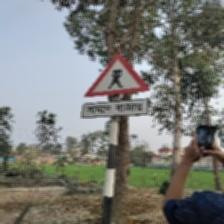Market-in-front: (79, 53, 153, 121)
